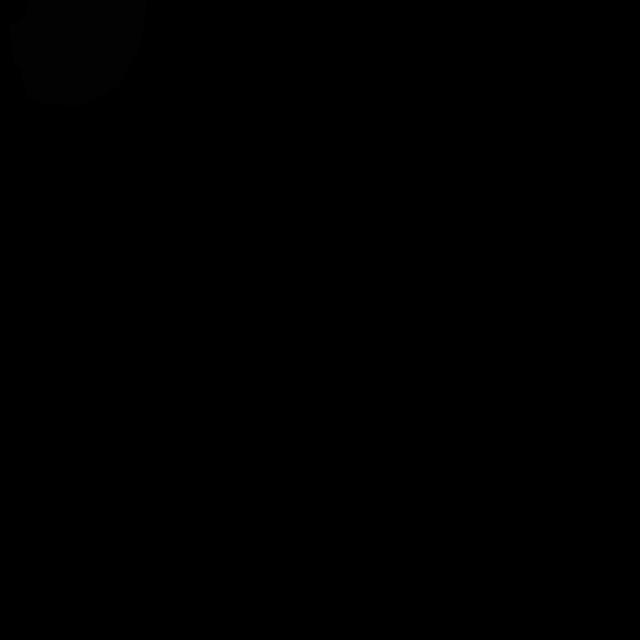cardboard: (9, 0, 146, 106)
